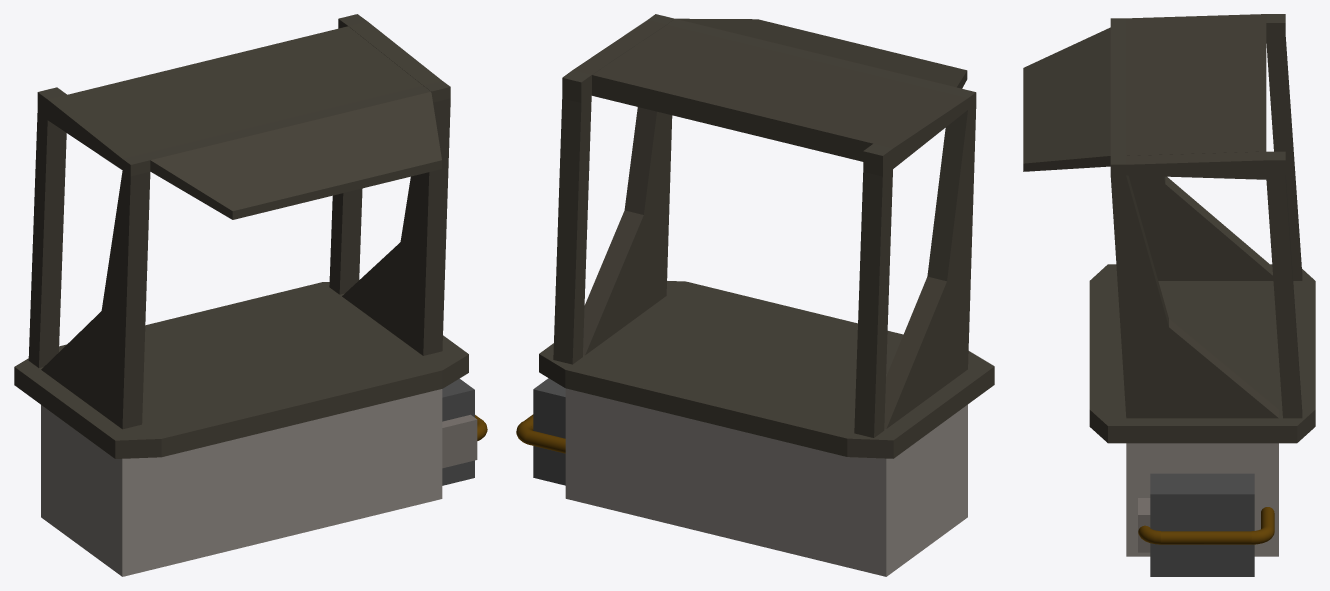
File: 48_booth1.fbx
3 renders of one model, left to right at view 1: azimuth 30°, elevation 25°; view 2: azimuth 150°, elevation 25°; view 3: azimuth 270°, elevation 25°, orthographic. The views are drawn at different scales.
Parts seen in each view (by area): view 1: pCube134; view 2: pCube134, pCylinder452; view 3: pCube134, pCylinder450, pCylinder452.
Part boxes in pixels (box(x1,y1,x2,y2)): pCube134: box(14, 14, 477, 576); pCube134: box(533, 14, 994, 576); pCylinder452: box(516, 421, 565, 453); pCube134: box(1023, 14, 1315, 576); pCylinder450: box(1161, 531, 1251, 544); pCylinder452: box(1251, 507, 1274, 544).
Bounding box in the file's own units: 2.82 × 2.86 × 1.91.
